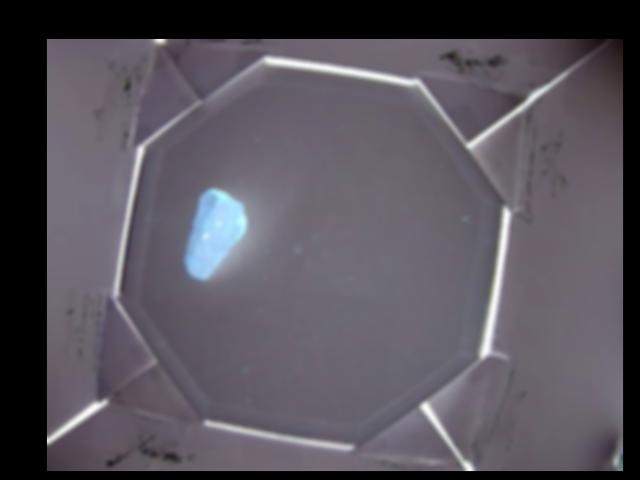Brisk: (181, 187, 248, 282)
